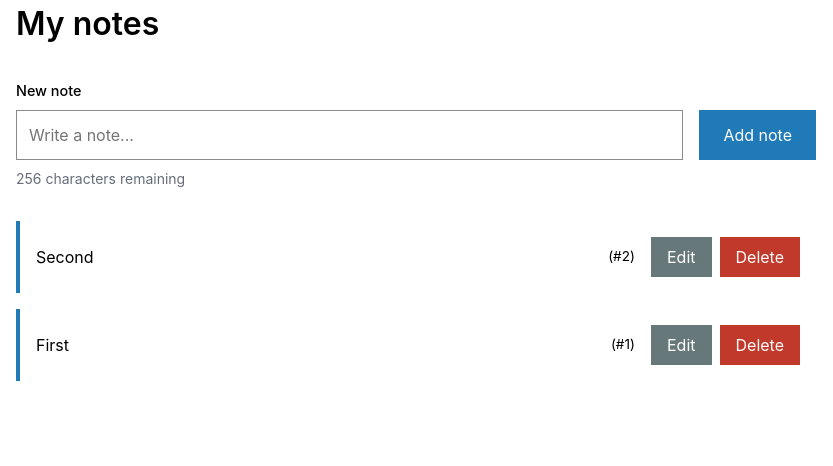
NotesPage › editing a note › leaves focus where it is if the user moved to another note while saving
This screenshot has width=833, height=466.
Click the button with aria-label "Edit note #1".
click(681, 345)  # box [651,325,712,365]
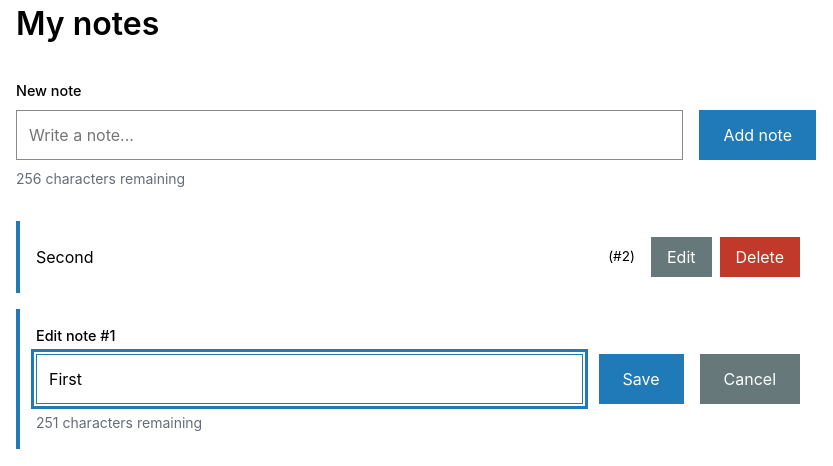
Click the button "Save".
click(641, 379)  # box [598,354,684,404]
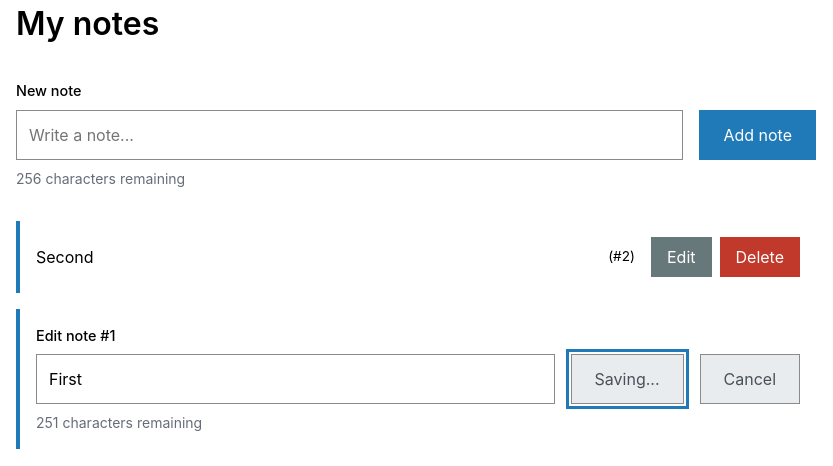
Click the button with aria-label "Edit note #2".
click(681, 257)  # box [651,237,712,277]
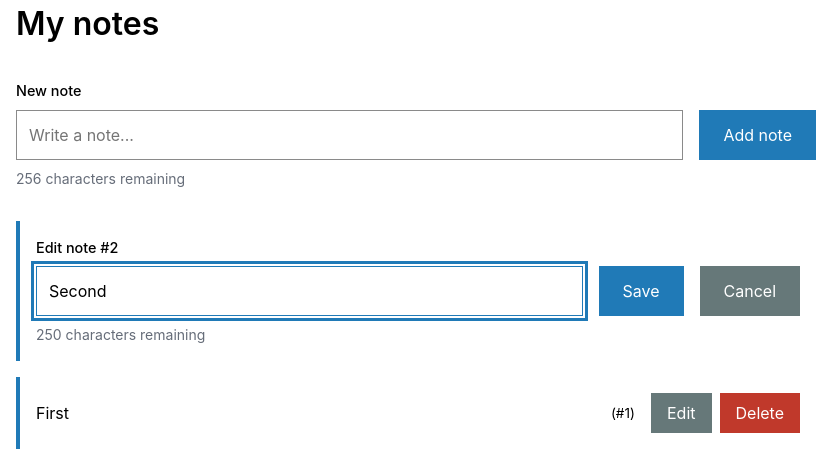
Result: the label "Edit note #1" is gone
